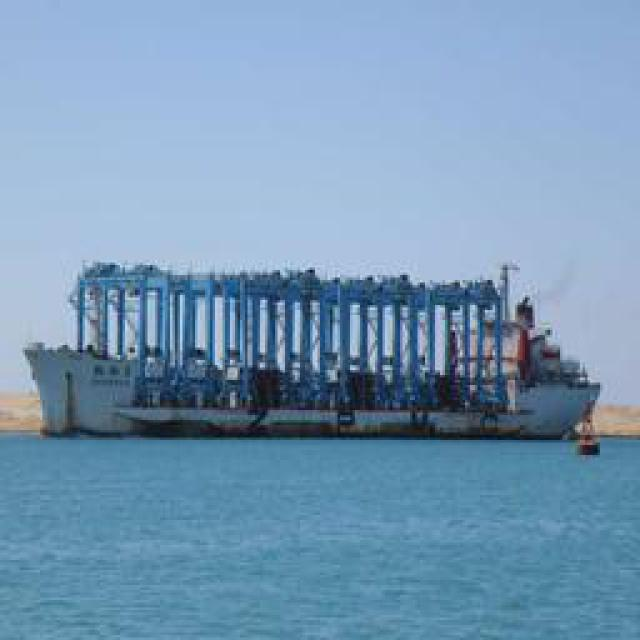Ship: (26, 244, 608, 449)
